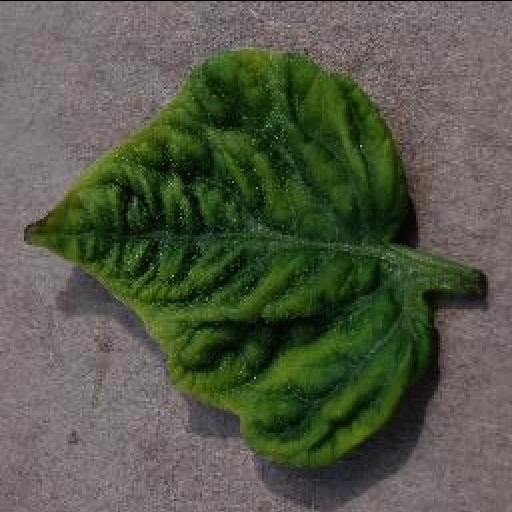disease_tomato: (22, 44, 434, 470)
